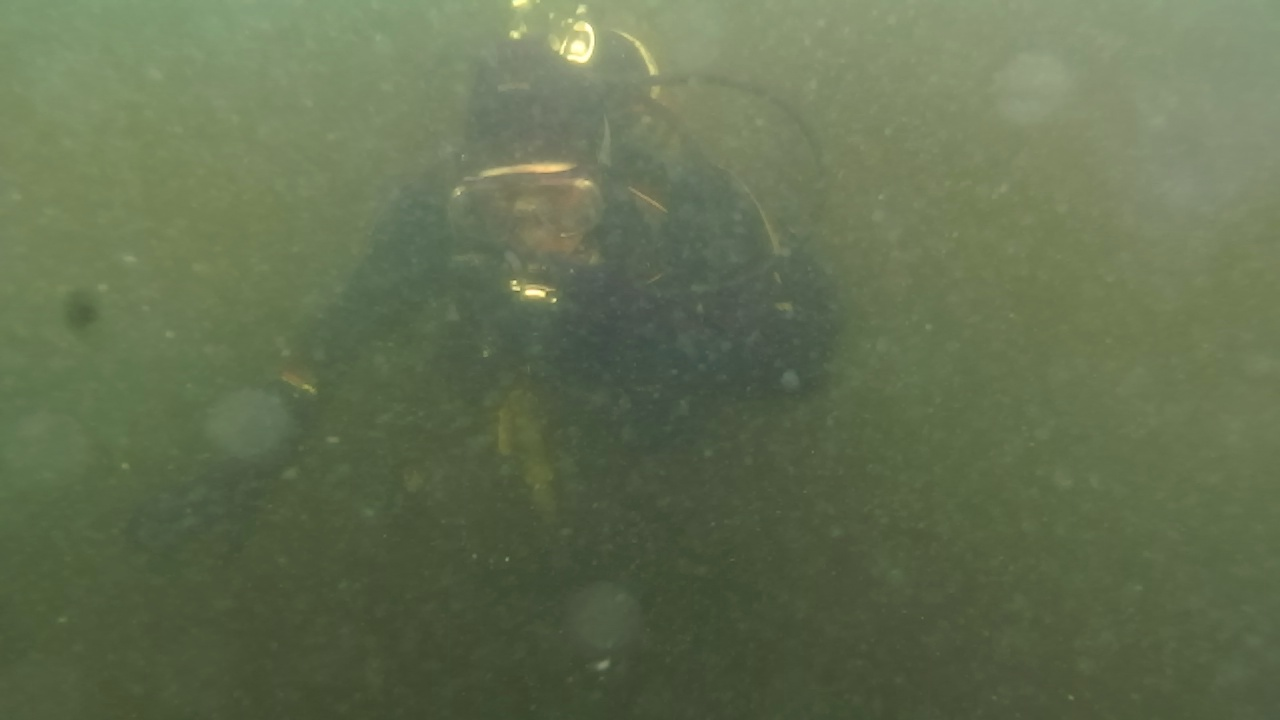Diver: (226, 14, 866, 522)
Head: (446, 86, 638, 324)
